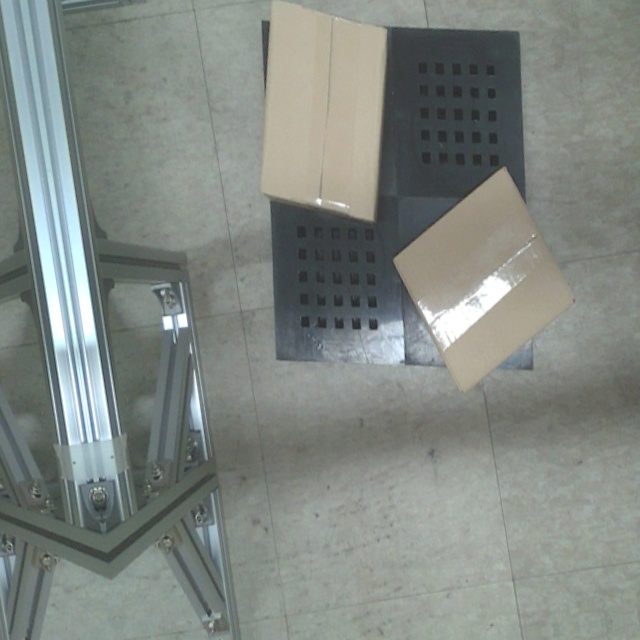box: (394, 165, 580, 391), (260, 0, 389, 225)
